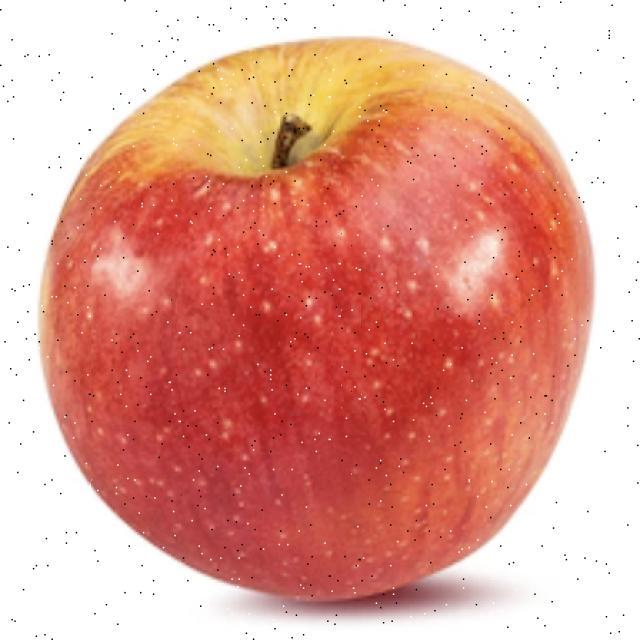Fresh Apple: (43, 43, 586, 640)
